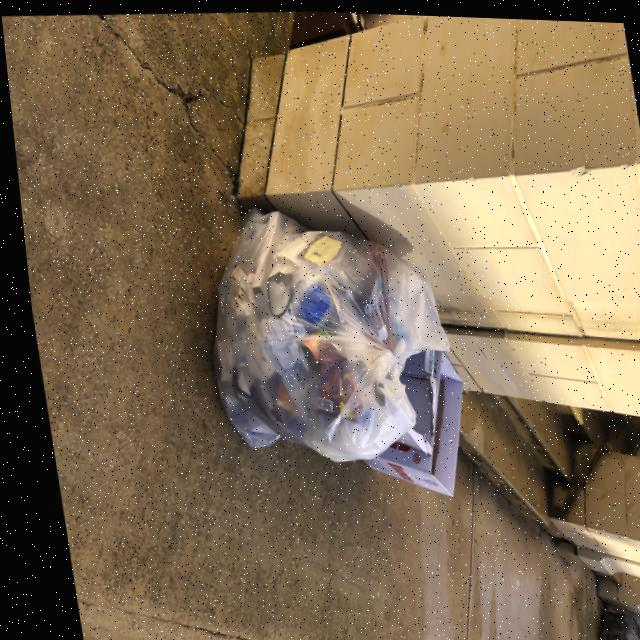Organic Waste -White Bag-: (184, 192, 442, 460)
